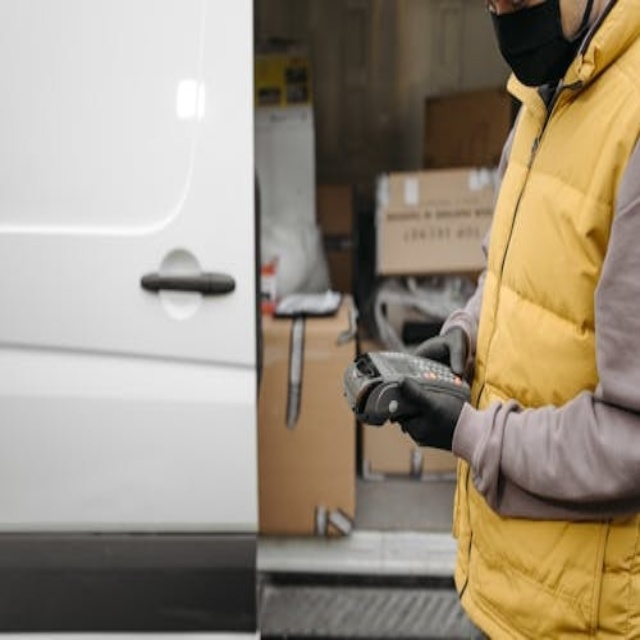Guantes: (393, 380, 466, 455), (412, 326, 469, 378)
Mascara: (489, 2, 580, 88)
